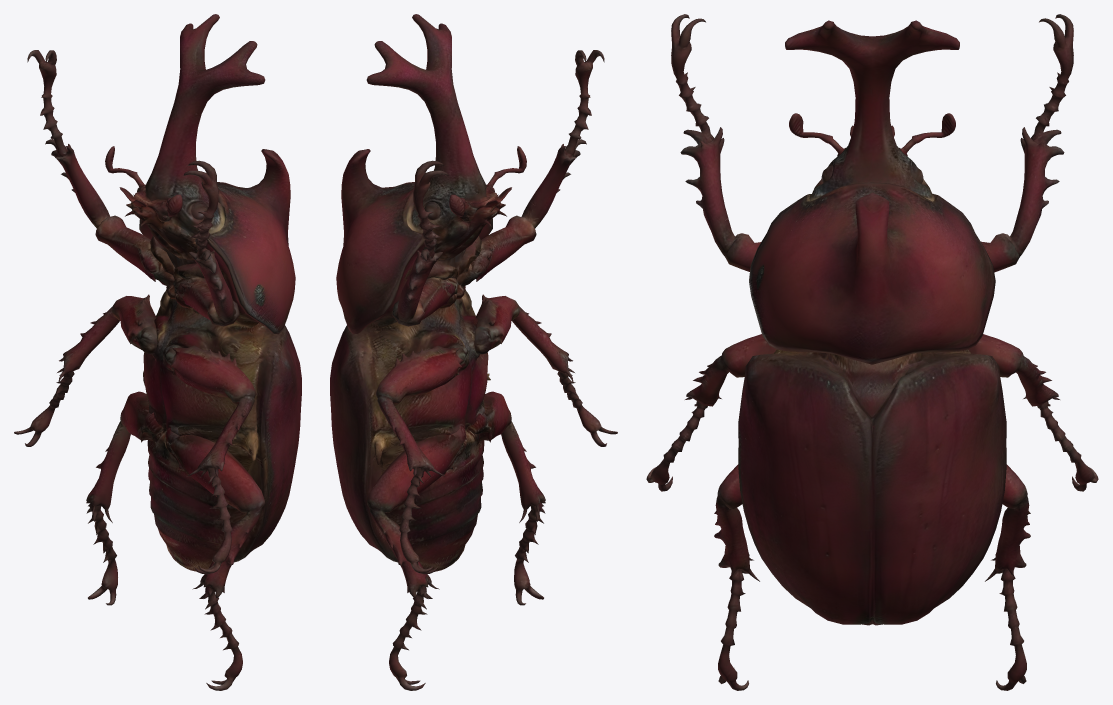
File: bug.fbx
3 views of the same model, side by side, from view 1: azimuth 30°, elevation 25°; view 2: azimuth 150°, elevation 25°; view 3: azimuth 270°, elevation 25° (orthographic). The views are drawn at different scales.
Parts seen in each view (by area): view 1: tripo_part_0, tripo_part_3, tripo_part_5, tripo_part_12, tripo_part_6, tripo_part_16, tripo_part_1, tripo_part_7, tripo_part_4, tripo_part_17, tripo_part_2, tripo_part_9 (+6 smaller); view 2: tripo_part_0, tripo_part_3, tripo_part_5, tripo_part_12, tripo_part_1, tripo_part_17, tripo_part_4, tripo_part_16, tripo_part_6, tripo_part_7, tripo_part_14, tripo_part_2 (+5 smaller); view 3: tripo_part_12, tripo_part_3, tripo_part_5, tripo_part_1, tripo_part_7, tripo_part_0, tripo_part_17, tripo_part_6, tripo_part_16, tripo_part_4, tripo_part_9, tripo_part_18 (+3 smaller).
Boxes of the visible parts, bbox=[...] form: tripo_part_0: bbox=[143, 290, 266, 571]; tripo_part_3: bbox=[139, 149, 295, 334]; tripo_part_5: bbox=[143, 14, 265, 238]; tripo_part_12: bbox=[158, 289, 301, 562]; tripo_part_6: bbox=[165, 427, 265, 597]; tripo_part_16: bbox=[162, 344, 256, 477]; tripo_part_1: bbox=[173, 160, 239, 326]; tripo_part_7: bbox=[45, 139, 174, 286]; tripo_part_4: bbox=[58, 294, 157, 382]; tripo_part_17: bbox=[86, 391, 163, 522]; tripo_part_2: bbox=[119, 187, 182, 243]; tripo_part_9: bbox=[27, 50, 67, 156]; tripo_part_0: bbox=[367, 290, 490, 571]; tripo_part_3: bbox=[336, 149, 492, 334]; tripo_part_5: bbox=[366, 14, 486, 235]; tripo_part_12: bbox=[330, 289, 472, 562]; tripo_part_1: bbox=[457, 50, 604, 286]; tripo_part_17: bbox=[367, 426, 466, 597]; tripo_part_4: bbox=[375, 344, 469, 477]; tripo_part_16: bbox=[474, 294, 573, 382]; tripo_part_6: bbox=[469, 391, 545, 522]; tripo_part_7: bbox=[392, 240, 458, 326]; tripo_part_14: bbox=[426, 194, 483, 260]; tripo_part_2: bbox=[456, 146, 526, 244]; tripo_part_12: bbox=[738, 352, 1006, 625]; tripo_part_3: bbox=[749, 182, 995, 364]; tripo_part_5: bbox=[785, 20, 959, 201]; tripo_part_1: bbox=[671, 14, 760, 271]; tripo_part_7: bbox=[981, 127, 1064, 272]; tripo_part_0: bbox=[774, 349, 970, 419]; tripo_part_17: bbox=[985, 464, 1030, 581]; tripo_part_6: bbox=[714, 464, 759, 581]; tripo_part_16: bbox=[685, 334, 776, 406]; tripo_part_4: bbox=[968, 334, 1059, 406]; tripo_part_9: bbox=[1031, 14, 1073, 140]; tripo_part_18: bbox=[718, 569, 748, 690].
Bounding box in the file's own units: 0.3188 × 0.9995 × 0.5796.
